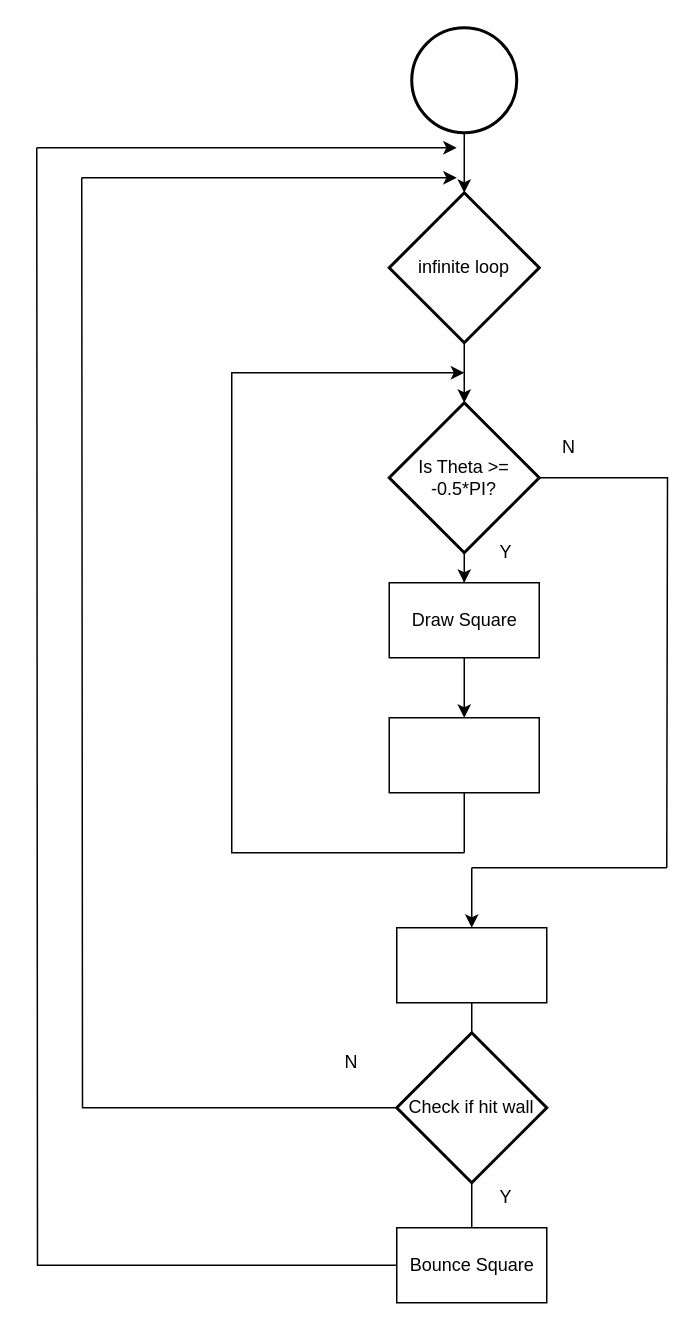
Some shapes in this 696 by 1329 pixel diagram are drawn without their labels. Here are the shapes that lost their labels. From the top down, the centre of each, then its label:
At point (464, 80): "Start".
At point (463, 754): "Rotate Square".
At point (471, 964): "Move Square".
